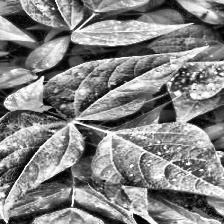Bean Rust: (43, 46, 207, 124), (93, 127, 224, 206), (0, 110, 84, 223), (72, 20, 198, 45), (166, 52, 224, 100), (17, 0, 80, 28), (69, 0, 160, 14)
